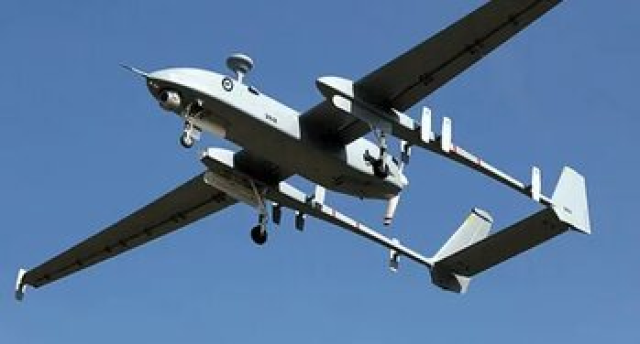military drone: (14, 0, 590, 302)
